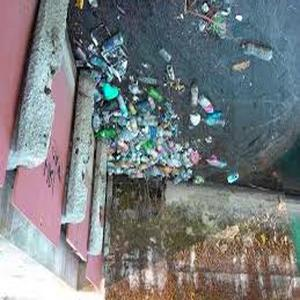Plastic: (240, 37, 276, 62), (200, 95, 214, 115)
